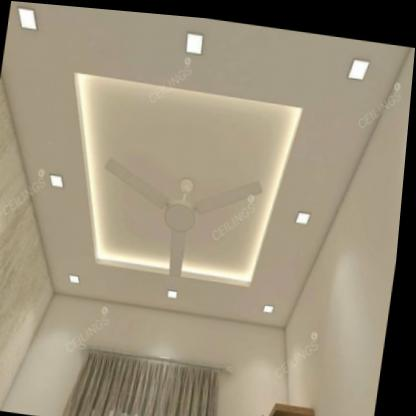Gypsum Board: (0, 0, 416, 337)
